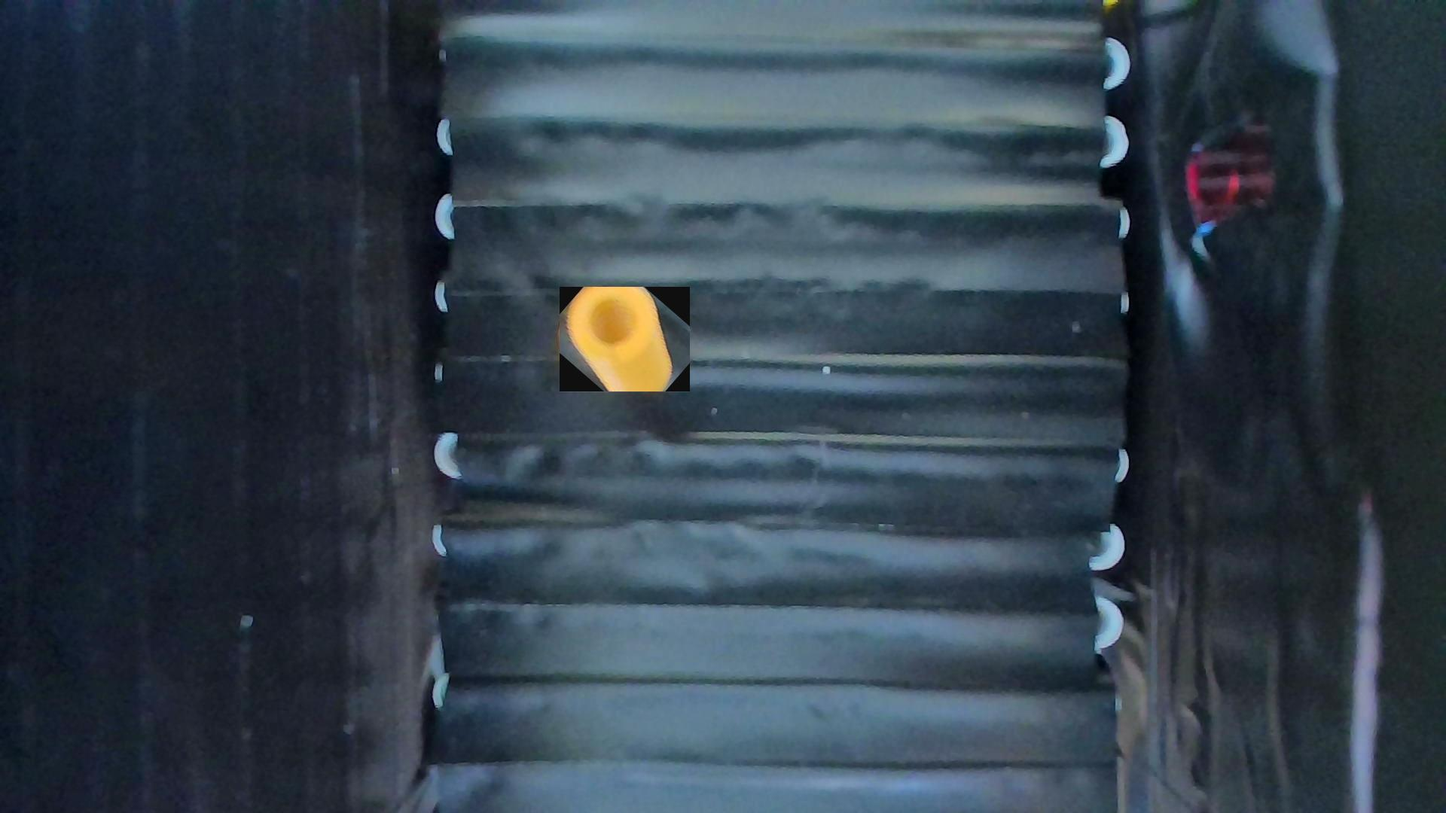spring: (560, 287, 690, 393)
